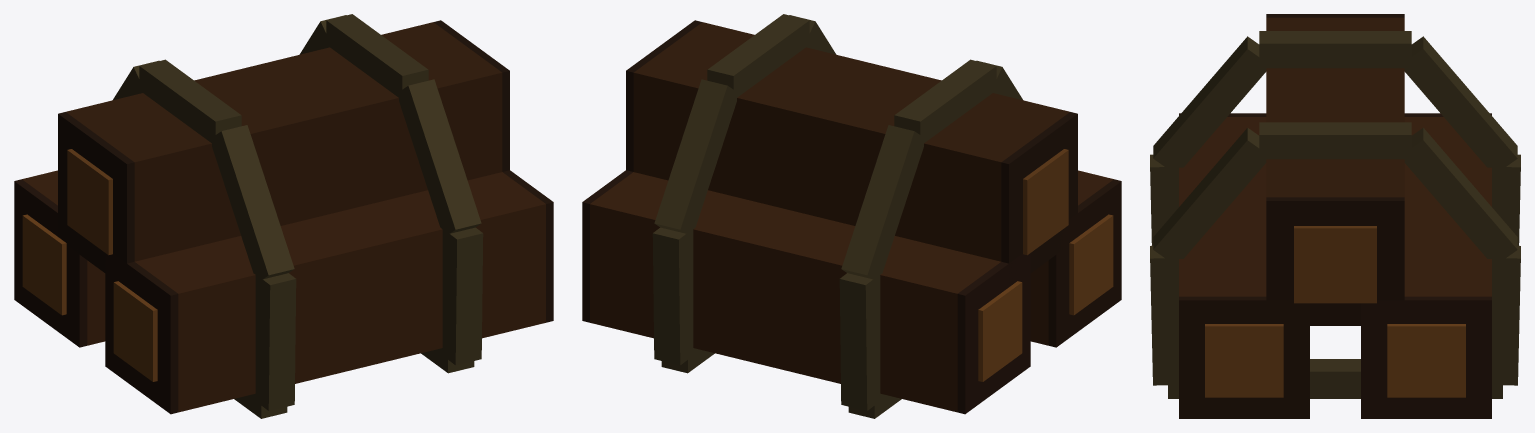
File: WoodBundle.glb
3 views of the same model, side by side, from view 1: azimuth 30°, elevation 25°; view 2: azimuth 150°, elevation 25°; view 3: azimuth 270°, elevation 25° (orthographic).
Visible parts, largest first — view 1: WoodBundle; view 2: WoodBundle; view 3: WoodBundle.
Part boxes in pixels (x1,y1,x2,y2): WoodBundle: [14, 14, 553, 418]; WoodBundle: [582, 14, 1121, 418]; WoodBundle: [1150, 14, 1520, 418].
Bounding box in the file's own units: 0.512 × 0.3292 × 0.4192.
